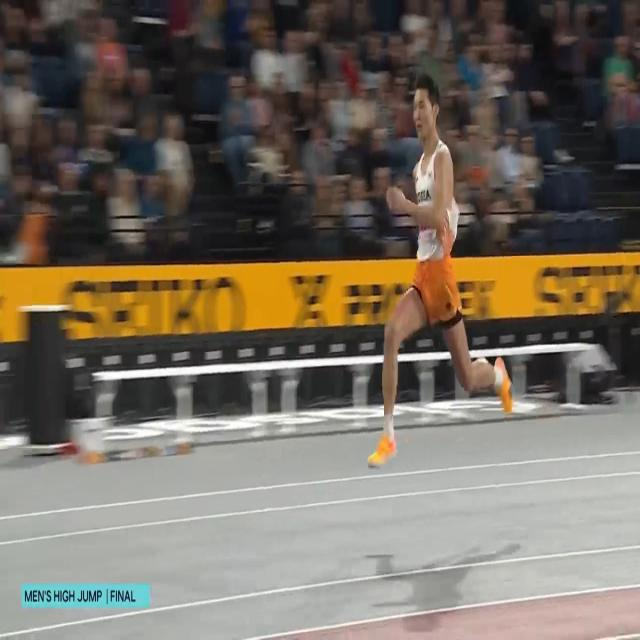run: (366, 72, 514, 472)
